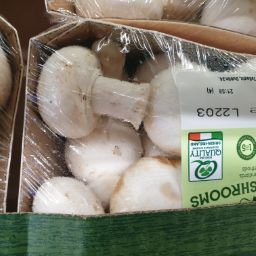Mushrooms: (35, 41, 150, 149), (94, 143, 199, 231), (53, 125, 145, 190), (41, 164, 118, 226)
